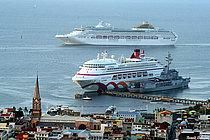Ship: (73, 49, 195, 94), (55, 19, 181, 47)
